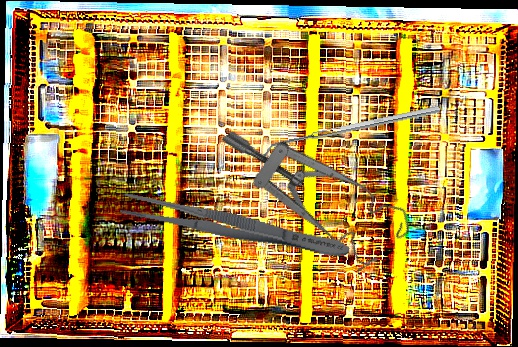Dressing Forceps: (119, 188, 352, 266)
Spatula Surgical: (260, 105, 442, 158)
Speculum: (219, 75, 421, 296)
